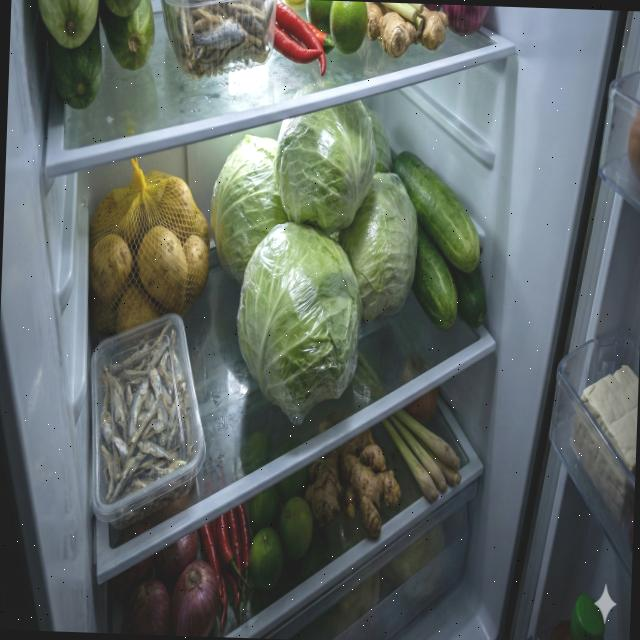anchovies: (92, 316, 200, 514), (171, 0, 273, 80)
cabbage: (234, 221, 366, 415), (272, 95, 378, 238), (338, 170, 421, 332), (208, 132, 292, 288)
chili: (198, 502, 252, 630), (272, 0, 337, 77)
cucumber: (386, 149, 492, 331), (33, 0, 155, 112)
ginger: (366, 1, 448, 61)
lemongrass: (302, 424, 403, 538), (379, 408, 464, 503)
lime: (303, 0, 368, 55), (278, 495, 314, 561), (248, 525, 282, 594)
potato: (86, 170, 213, 339)
